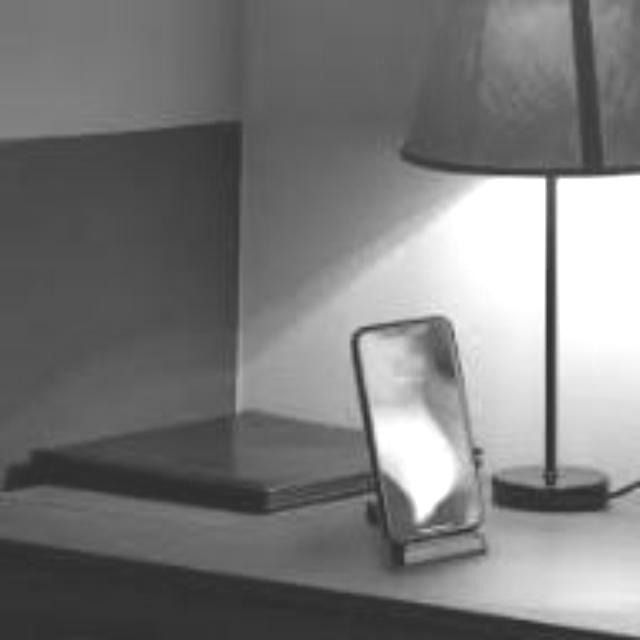fake: (326, 304, 512, 562)
